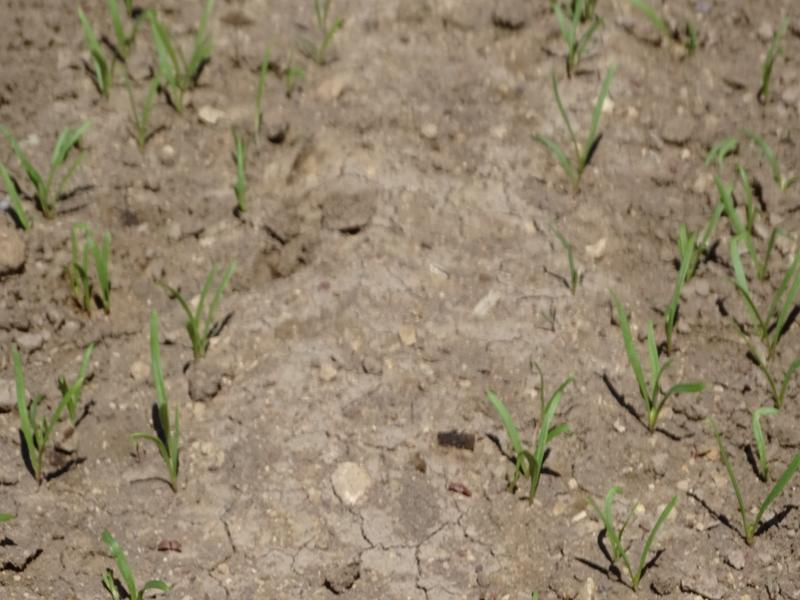Espinaca: (717, 172, 800, 325), (83, 1, 212, 97), (612, 295, 699, 425), (12, 343, 92, 464), (714, 424, 795, 534), (483, 372, 559, 484), (140, 316, 190, 476), (545, 68, 618, 167), (4, 128, 69, 228), (595, 489, 666, 576), (169, 266, 235, 344), (61, 231, 116, 310), (553, 3, 613, 61), (674, 221, 714, 284), (229, 139, 253, 216)
